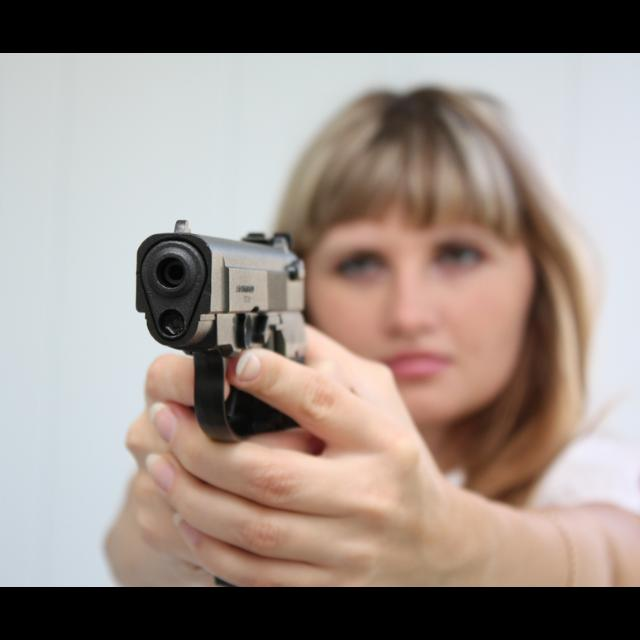handgun: (132, 216, 322, 448)
